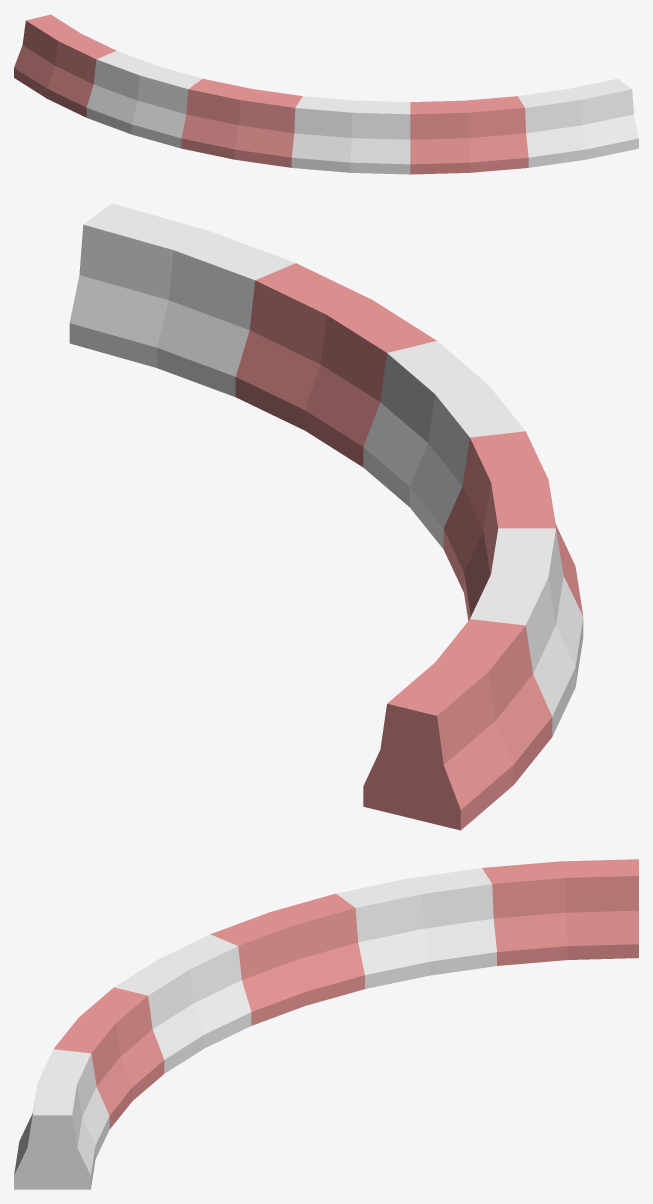
File: roadCornerLargeBorderInnerBarrier.dae
The picture shows the model from 3 angles, top to bottom: view 1: azimuth 30°, elevation 25°; view 2: azimuth 150°, elevation 25°; view 3: azimuth 270°, elevation 25°; orthographic projection. The views are drawn at different scales.
Visible parts, largest first — view 1: roadCornerLargeBorderInner; view 2: roadCornerLargeBorderInner; view 3: roadCornerLargeBorderInner.
Part boxes in pixels (box(x1,y1,x2,y2)): roadCornerLargeBorderInner: box(14, 14, 638, 174); roadCornerLargeBorderInner: box(69, 203, 583, 830); roadCornerLargeBorderInner: box(14, 859, 638, 1189).
Bounding box in the file's own units: 1 × 1 × 0.1312.
